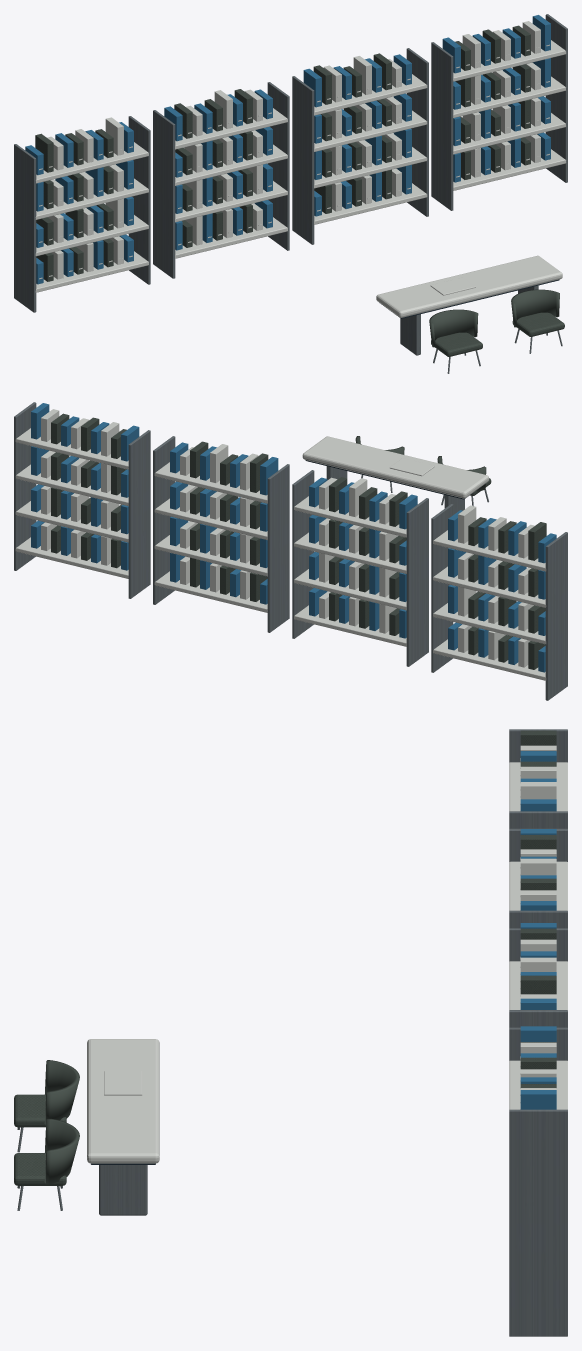
Rendered from resources.glb.
3 views of the same model, one above another, from view 1: azimuth 30°, elevation 25°; view 2: azimuth 150°, elevation 25°; view 3: azimuth 270°, elevation 25° (orthographic). The views are drawn at different scales.
Visible parts, largest first — view 1: Static_resources; view 2: Static_resources; view 3: Static_resources.
Boxes of the visible parts, <box> form: Static_resources: <box>14,14,567,373</box>; Static_resources: <box>14,402,567,700</box>; Static_resources: <box>14,729,567,1336</box>.
Bounding box in the file's own units: 13.06 × 3.79 × 8.
5 materials, 2 textured.
